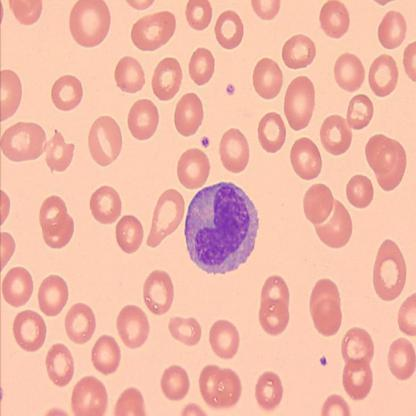Monocyte: (182, 179, 261, 276)
